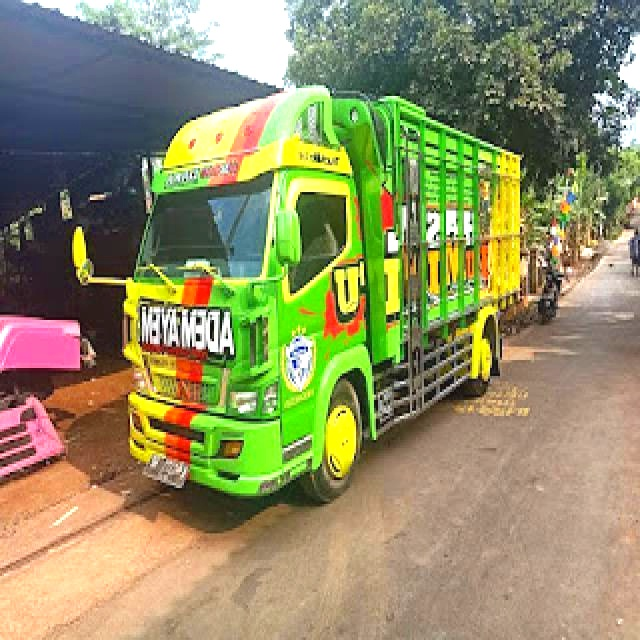truck: (53, 65, 543, 546)
